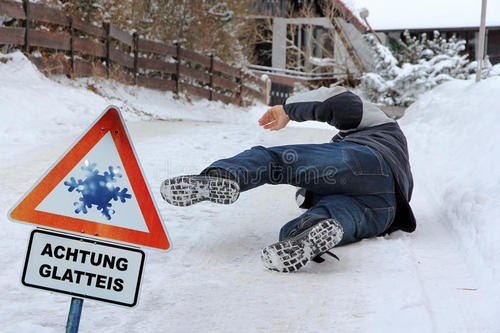falling: (164, 68, 428, 272)
